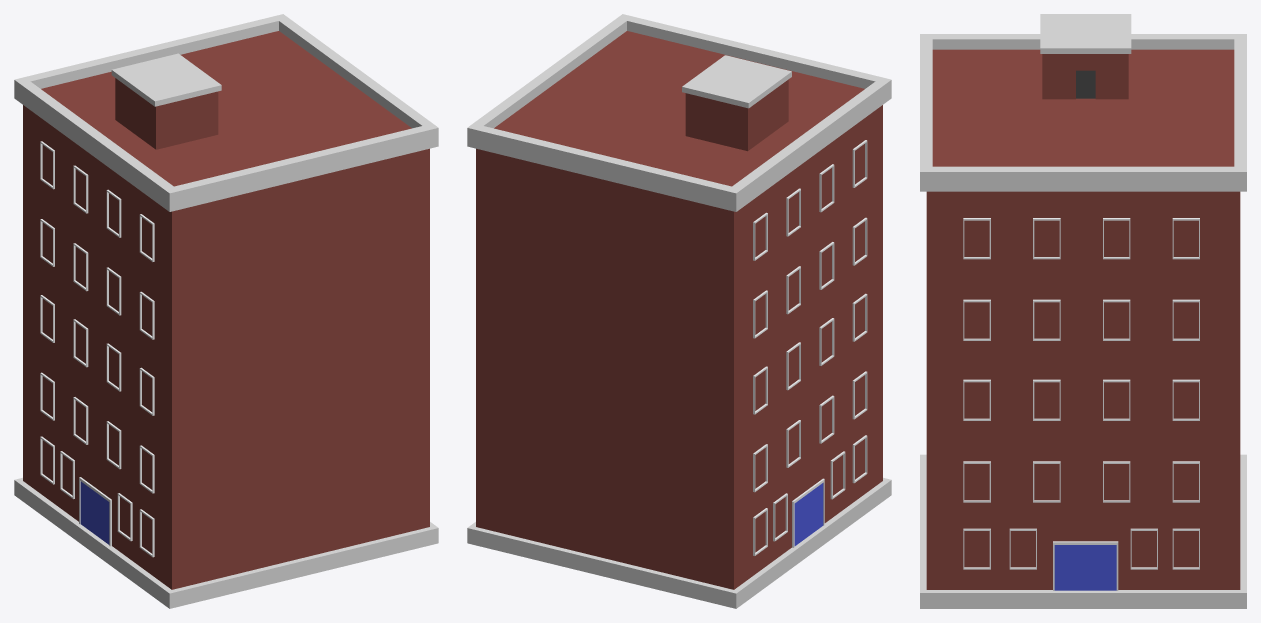
The picture shows the model from 3 angles, left to right: view 1: azimuth 30°, elevation 25°; view 2: azimuth 150°, elevation 25°; view 3: azimuth 270°, elevation 25°; orthographic projection. The views are drawn at different scales.
Visible parts, largest first — view 1: wall02_A.001, wall01_A.001, roof01_A, base_A, Cube.007, wall03_A, roof02_A; view 2: wall02_A, wall01_A.001, roof01_A, base_A, Cube.007, wall03_A, roof02_A; view 3: wall01_A, roof01_A, window, base_A, roof02_A, wall03_A, door02_A.
Boxes of the visible parts, box(x1,y1,x2,y2) form: wall02_A.001: box(172, 148, 429, 589); wall01_A.001: box(23, 105, 171, 589); roof01_A: box(14, 14, 438, 211); base_A: box(14, 477, 438, 608); Cube.007: box(40, 141, 154, 557); wall03_A: box(115, 78, 218, 149); roof02_A: box(111, 53, 221, 106); wall02_A: box(476, 148, 733, 589); wall01_A.001: box(734, 105, 882, 589); roof01_A: box(467, 14, 891, 211); base_A: box(467, 477, 891, 608); Cube.007: box(753, 140, 867, 555); wall03_A: box(685, 79, 788, 151); roof02_A: box(682, 55, 791, 108); wall01_A: box(927, 191, 1239, 589); roof01_A: box(920, 34, 1246, 191); window: box(963, 218, 1199, 590); base_A: box(920, 454, 1246, 608); roof02_A: box(1040, 14, 1131, 53); wall03_A: box(1042, 54, 1128, 99); door02_A: box(1076, 70, 1095, 98).
Bounding box in the file's own units: 890 × 1440 × 891.
